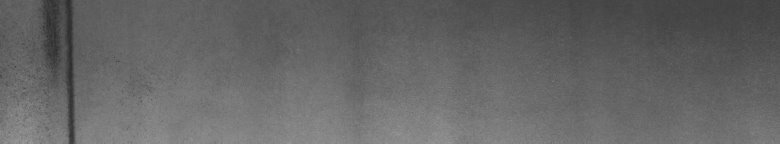hd: (16, 4, 152, 136)
